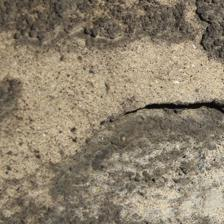Crack: (54, 46, 170, 82)
